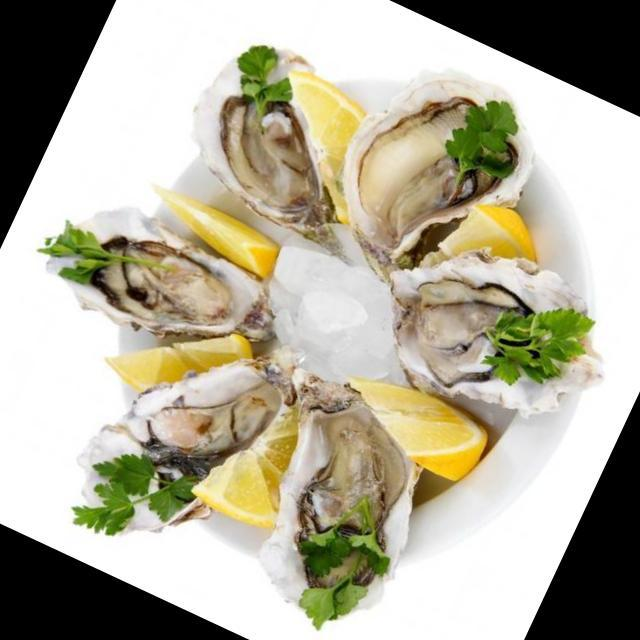Oyster-Open: (341, 200, 640, 464), (293, 38, 563, 324), (43, 299, 309, 589), (214, 366, 467, 640), (157, 21, 418, 260), (12, 170, 284, 385)
